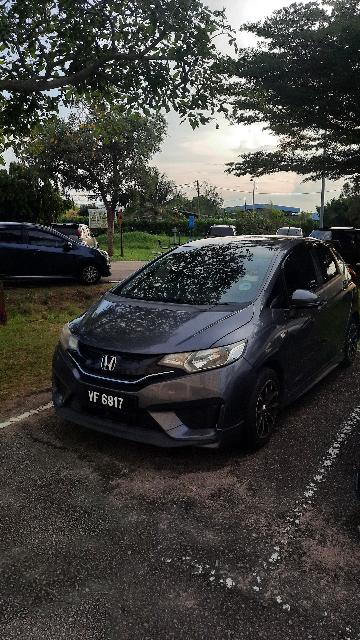License_Plate: (72, 381, 145, 419)
car: (51, 233, 360, 458)
